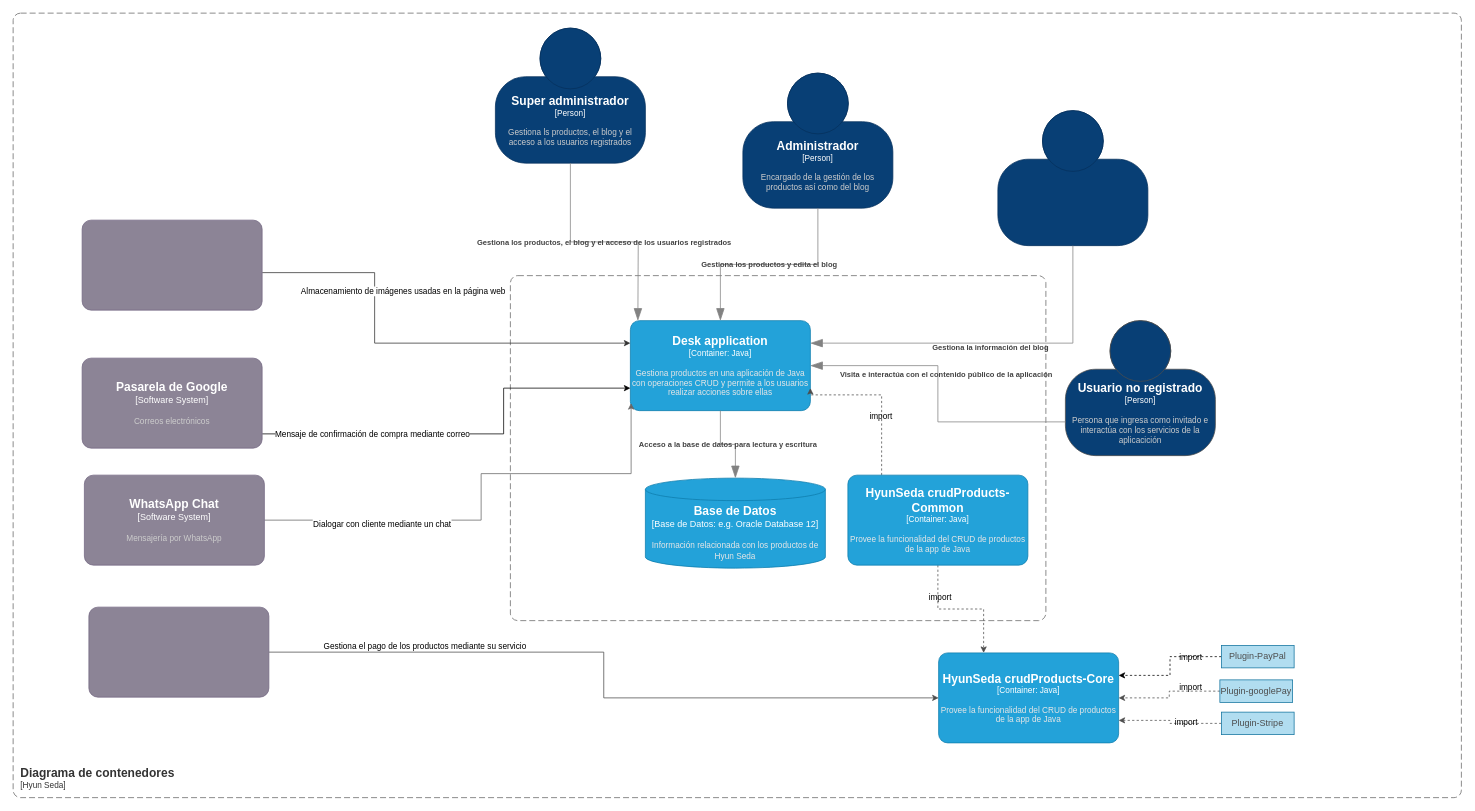
Image size: 1475x811. Some labels were removed from this diagram. Here are the shapes that lost their labels. From the top down, the box of each, then its label:
(997, 110, 1148, 246): Editor [Person] Encargado de realizar publicaciones en el blog
(81, 219, 262, 310): Storage Amazon [Software System] Servicio de almacenamiento de imágenes
(510, 275, 1046, 621): Hyun Seda [Aplicación para administrar los productos y servicios de Hyun Seda]
(88, 606, 269, 697): Medios de pago [Software System] Medio de pago para los productos
